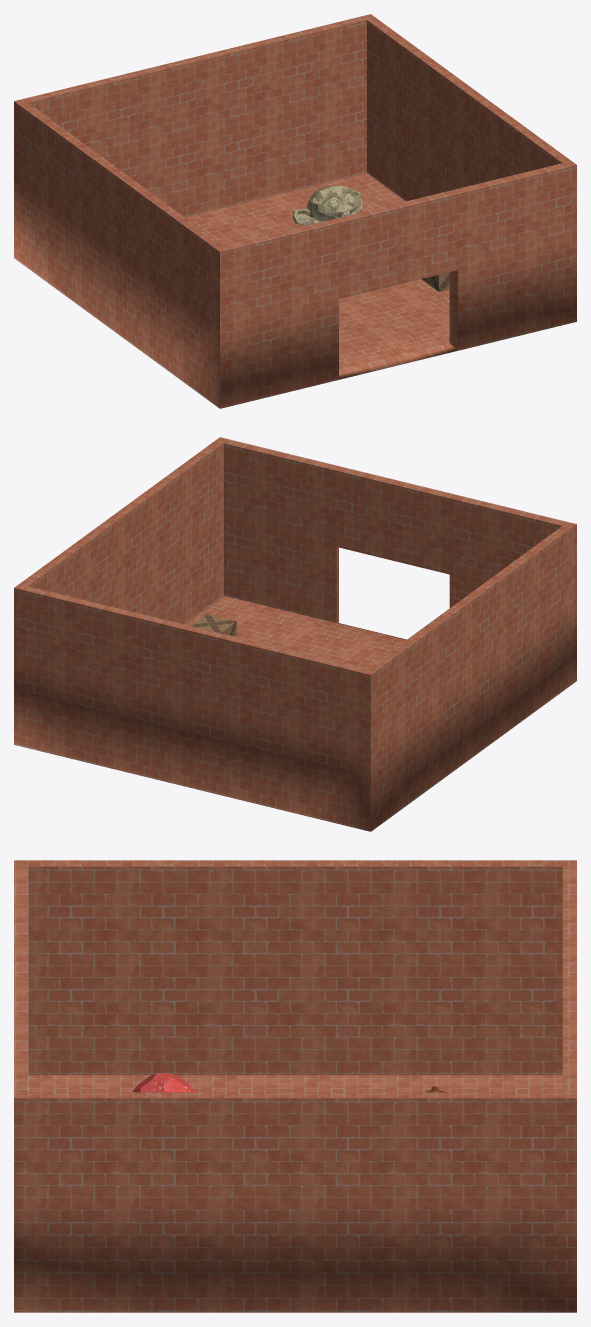
Rendered from single geo6.gltf.
The picture shows the model from 3 angles, top to bottom: view 1: azimuth 30°, elevation 25°; view 2: azimuth 150°, elevation 25°; view 3: azimuth 270°, elevation 25°; orthographic projection. The views are drawn at different scales.
Visible parts, largest first — view 1: Objects; view 2: Objects; view 3: Objects.
Boxes of the visible parts, bbox=[...] form: Objects: bbox=[14, 14, 576, 408]; Objects: bbox=[14, 437, 576, 831]; Objects: bbox=[14, 860, 576, 1312].
Size of the model in its own units: 14.13 by 5.93 by 14.13.
Materials: 5 (5 with a texture image).
